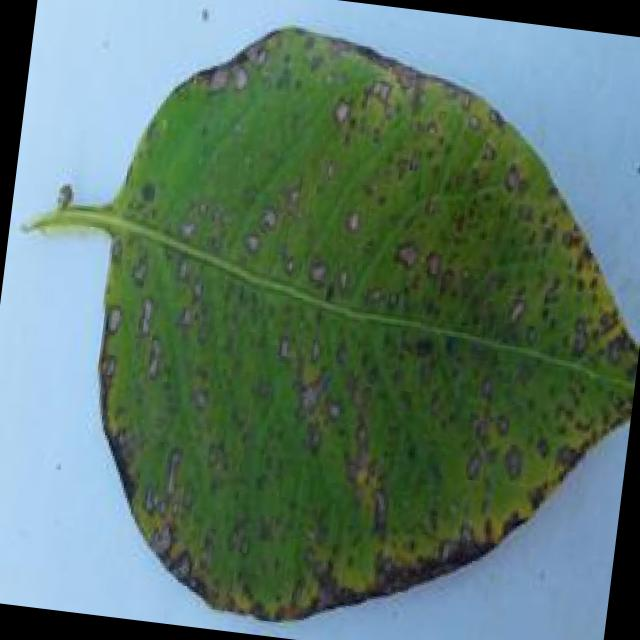Potato_Early_Blight: (55, 1, 640, 640)
